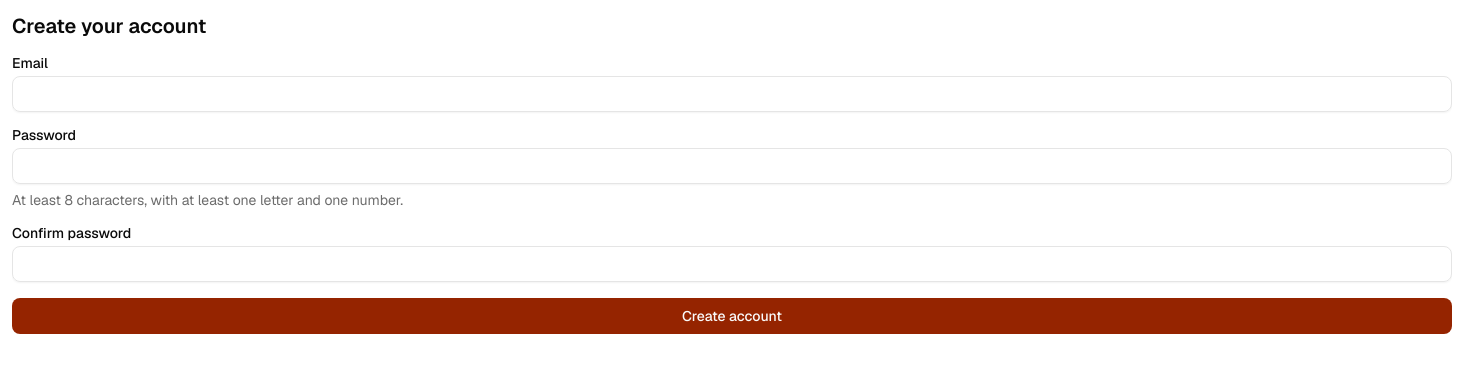
Test: RegisterForm › announces the short-password field error via role=alert, linked to the input via aria-describedby
Type "user@example.com" into the field labelled "Email". click: (732, 94)
box: x1=12 y1=76 x2=1452 y2=112
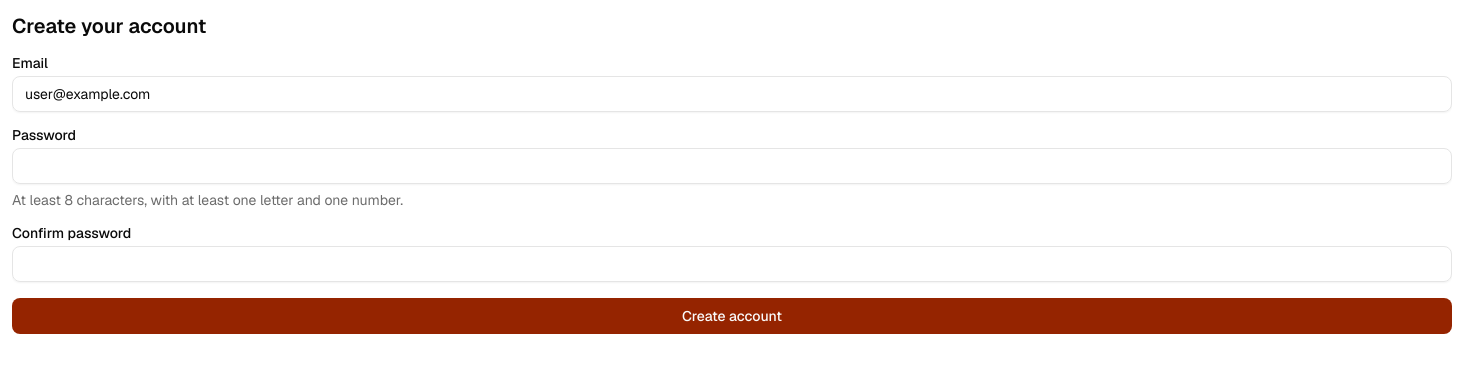
Type "ab1" into the password field labelled "Password". click: (732, 166)
box: x1=12 y1=148 x2=1452 y2=184
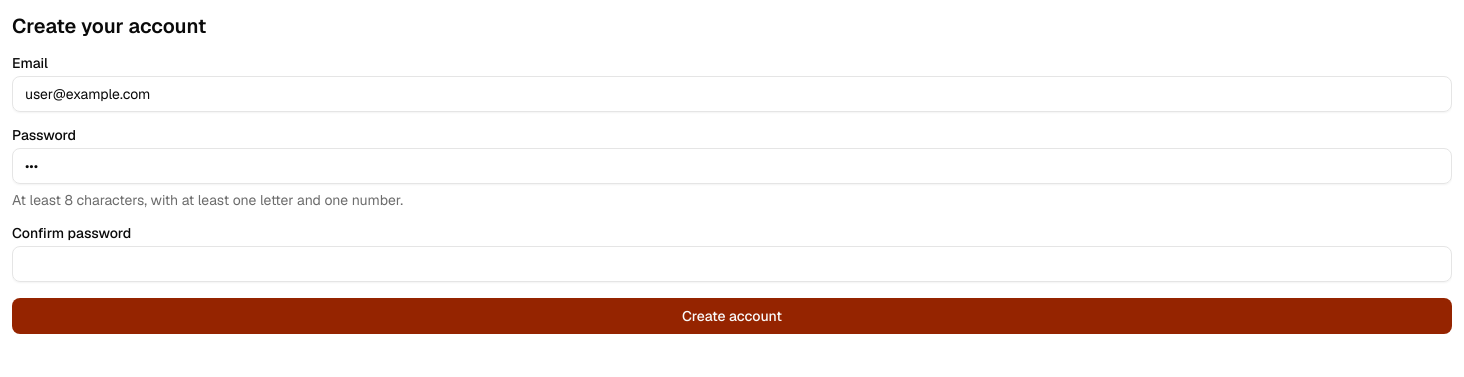
Type "ab1" into the password field labelled "Confirm password". click: (732, 264)
box: x1=12 y1=246 x2=1452 y2=282
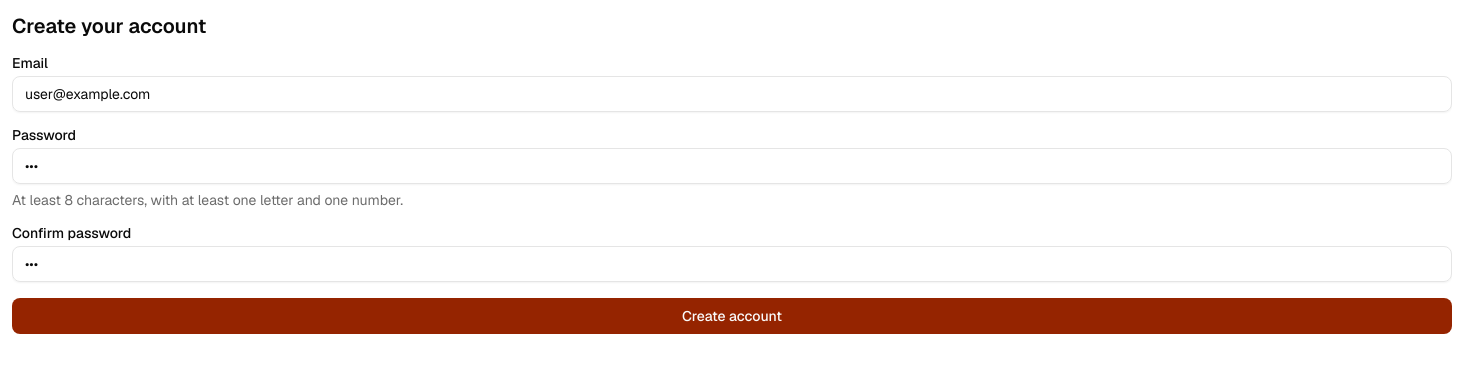
Click the button "Create account". click: (732, 316)
box: x1=12 y1=298 x2=1452 y2=334
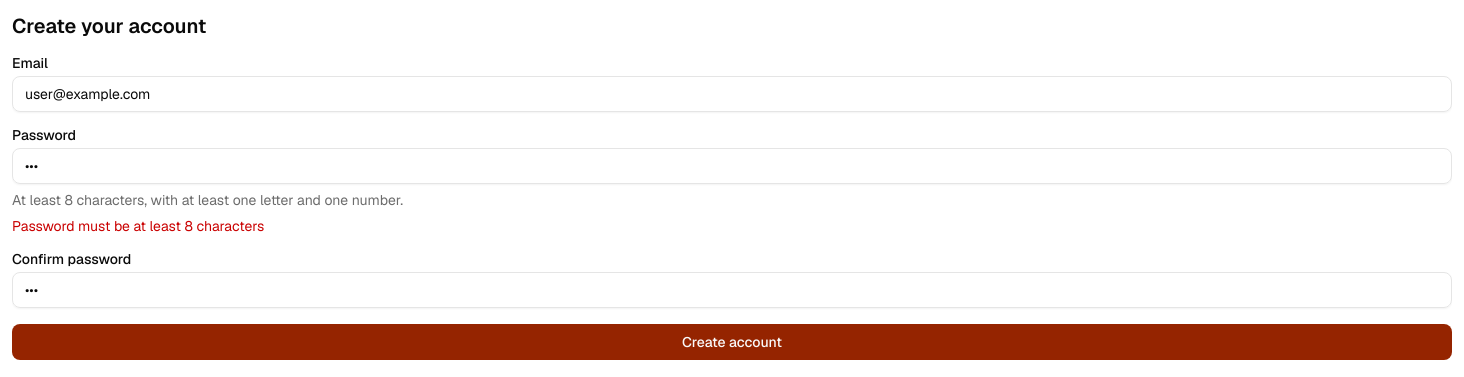
Check: the message reads "Password must be at least 8 characters", box x1=12 y1=217 x2=264 y2=235
